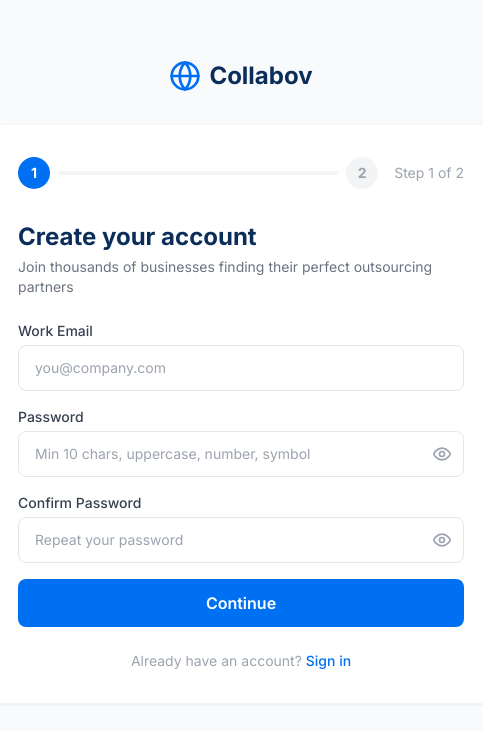
Test case: Feature: Buyer Registration (3-step flow) › Scenario: Password must meet security requirements › should reject a password without an uppercase letter
In the field with placeholder "you@company.com": (241, 368) x1=18 y1=345 x2=464 y2=391, type "a@b.com"
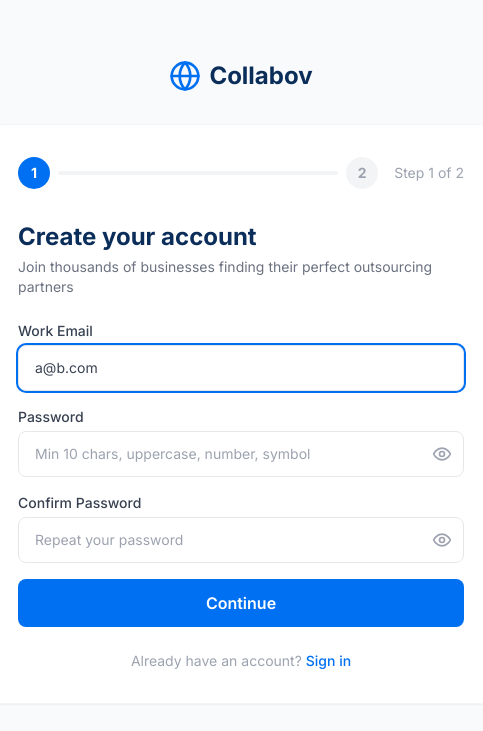
In the password field with placeholder "Min 10 chars, uppercase, number, symbol": (241, 454) x1=18 y1=431 x2=464 y2=477, type "nouppercase1!"
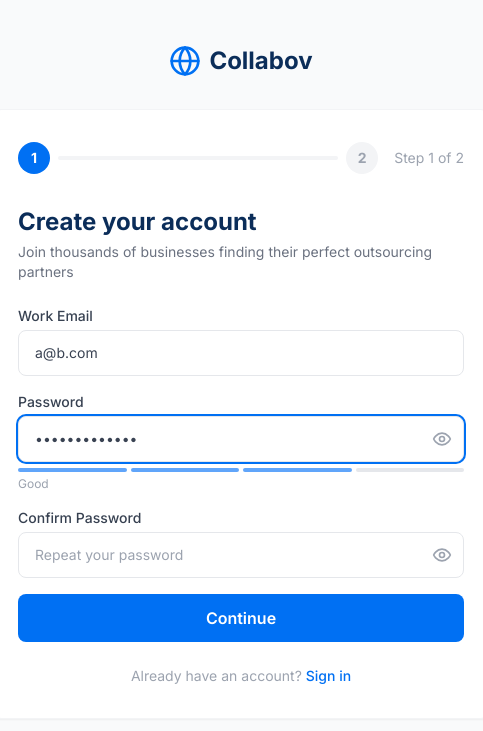
In the password field with placeholder "Repeat your password": (241, 555) x1=18 y1=532 x2=464 y2=578, type "nouppercase1!"
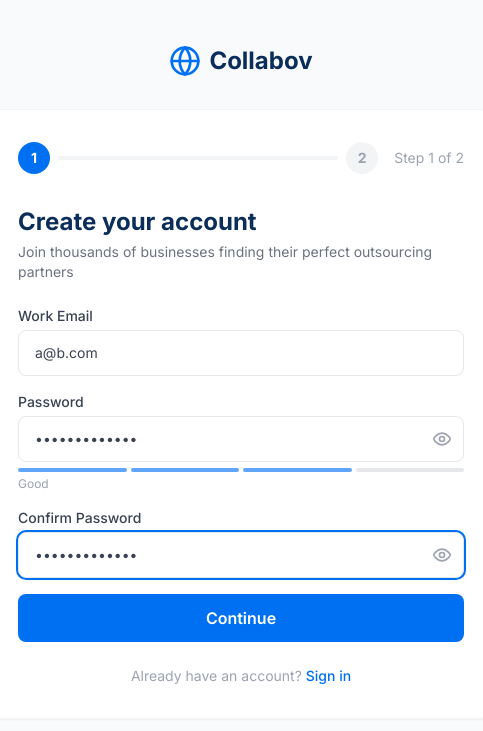
Click the button "Continue": click(241, 618) x1=18 y1=594 x2=464 y2=642
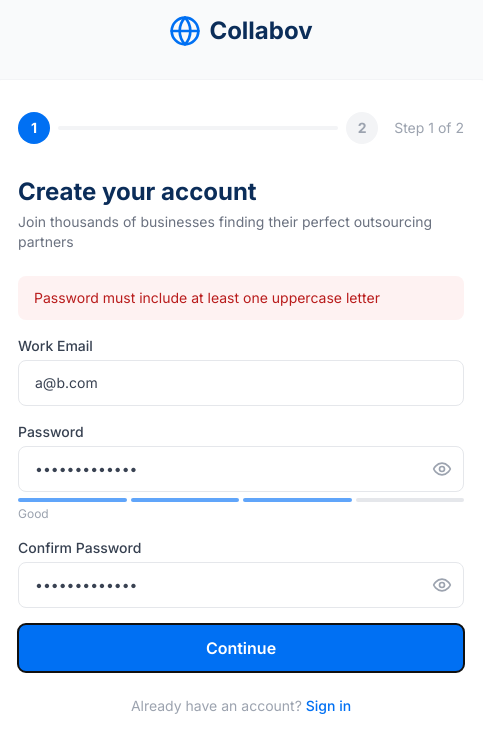
Now the text "Password must include at least one uppercase letter" is shown, box x1=18 y1=276 x2=464 y2=320
